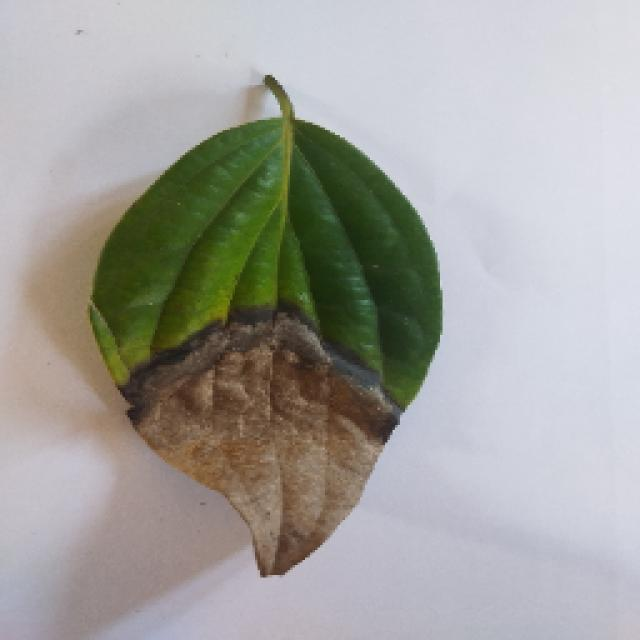footrot: (78, 80, 440, 575)
